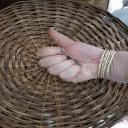ThumbsUp: (36, 23, 100, 91)
